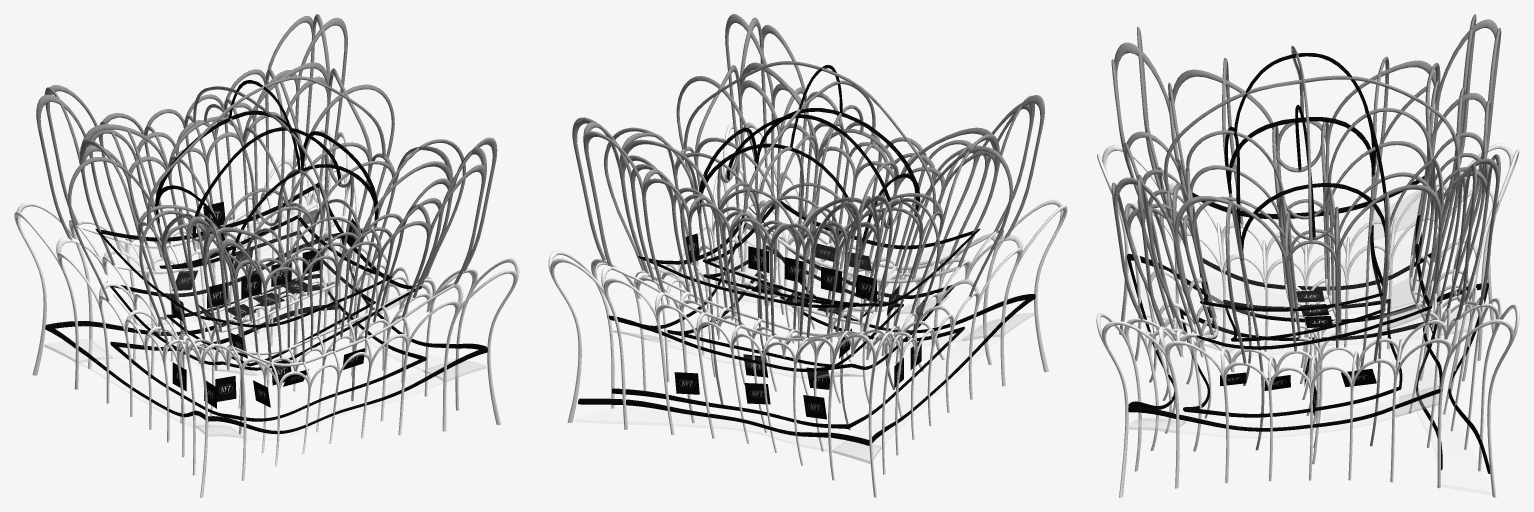
The picture shows the model from 3 angles, left to right: view 1: azimuth 30°, elevation 25°; view 2: azimuth 150°, elevation 25°; view 3: azimuth 270°, elevation 25°; orthographic projection. The views are drawn at different scales.
Parts seen in each view (by area): view 1: r2, r1, railing, Corner %43, r3; view 2: r2, r1, railing, r3, Corner %43; view 3: r2, r1, railing, Corner %43, r3, Linear %12.
Boxes of the visible parts, bbox=[...] form: r2: bbox=[36, 14, 497, 434]; r1: bbox=[14, 127, 519, 497]; railing: bbox=[45, 183, 487, 434]; Corner %43: bbox=[44, 195, 486, 438]; r3: bbox=[155, 80, 378, 277]; r2: bbox=[572, 14, 1044, 430]; r1: bbox=[548, 122, 1067, 497]; railing: bbox=[578, 201, 1035, 445]; r3: bbox=[698, 65, 920, 259]; Corner %43: bbox=[613, 221, 1033, 463]; r2: bbox=[1111, 14, 1501, 450]; r1: bbox=[1096, 143, 1519, 497]; railing: bbox=[1127, 176, 1490, 473]; Corner %43: bbox=[1129, 190, 1487, 432]; r3: bbox=[1224, 53, 1386, 260]; Linear %12: bbox=[1184, 286, 1473, 423].
Size of the model in its own units: 32 by 30 by 32.
Materials: 43 (36 with a texture image).
